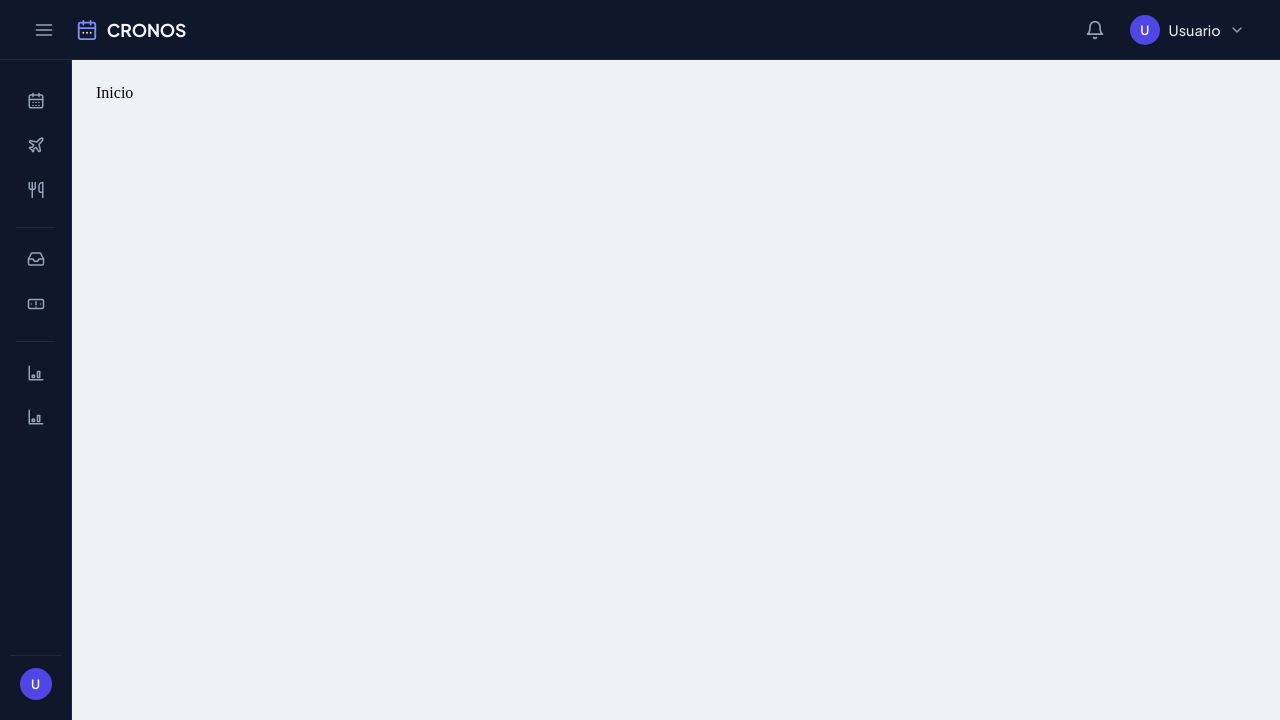
Test: Layout Mis tareas navigation › does not render empty GA categories when optional permissions are absent
Click the button named "Expandir menú". click: click(44, 30)
box: [24,10,64,50]
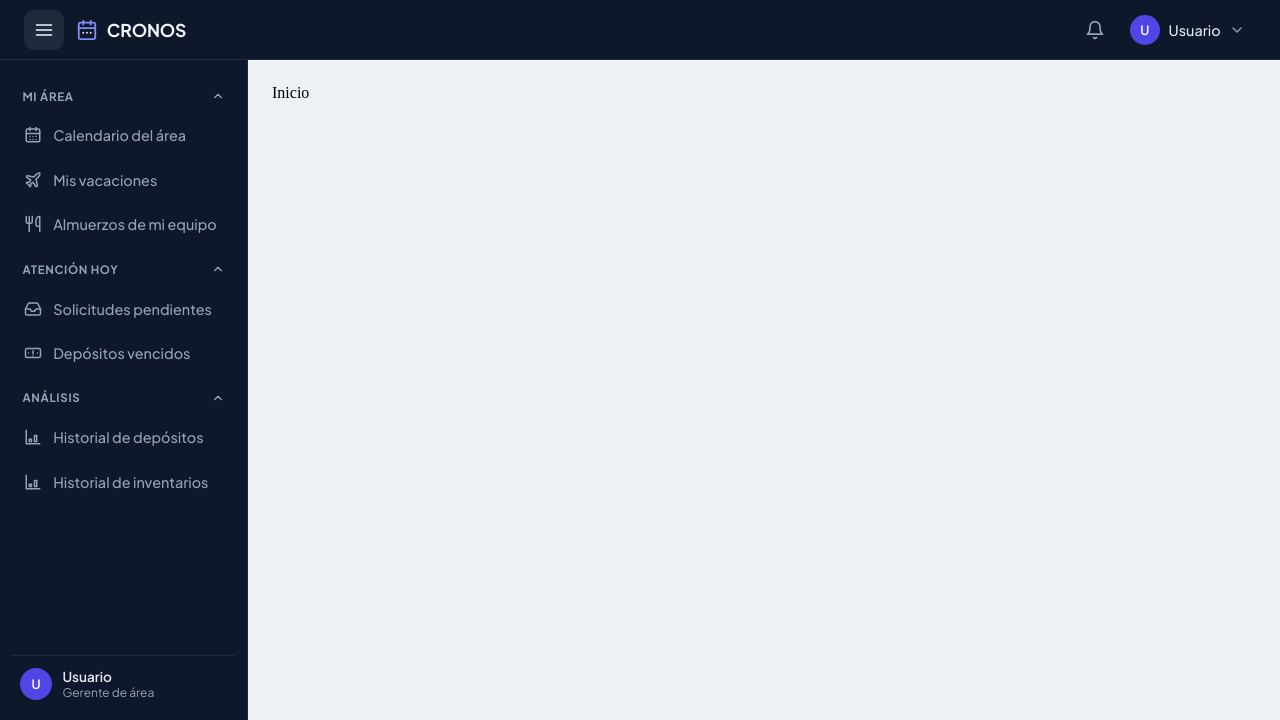
Check: the button "Mi área" is shown, box [12,80,235,112]
Check: the button "Atención hoy" is shown, box [12,253,235,285]
Check: the button "Análisis" is shown, box [12,382,235,414]
